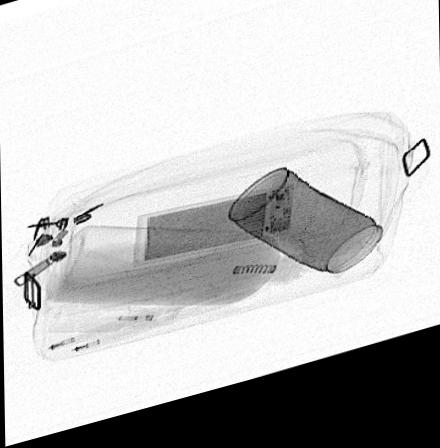Powerbank: (130, 196, 297, 277)
